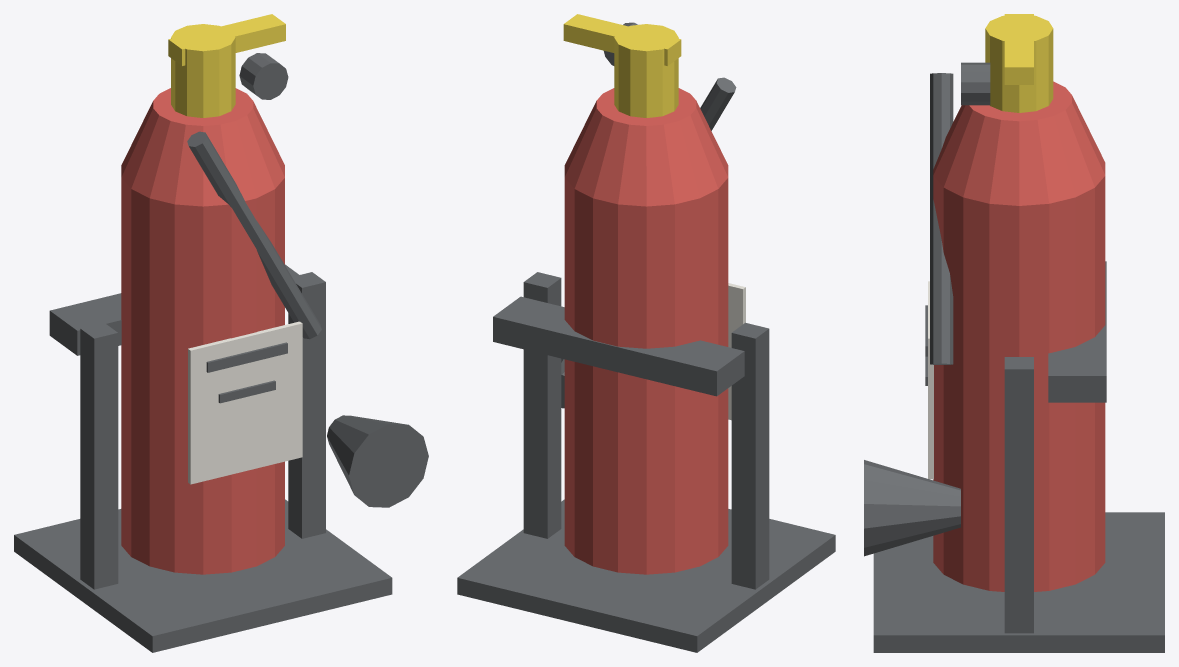
Rendered from woodworking-workshop-and-joinery-woodworking-workshop--46a18d51__34270.glb.
The picture shows the model from 3 angles, left to right: view 1: azimuth 30°, elevation 25°; view 2: azimuth 150°, elevation 25°; view 3: azimuth 270°, elevation 25°; orthographic projection. The views are drawn at different scales.
Parts seen in each view (by area): view 1: woodworking-workshop-and-joinery-fire-extinguisher; view 2: woodworking-workshop-and-joinery-fire-extinguisher; view 3: woodworking-workshop-and-joinery-fire-extinguisher.
Boxes of the visible parts, x1,y1,x2,y2 form: woodworking-workshop-and-joinery-fire-extinguisher: (14,14,428,652); woodworking-workshop-and-joinery-fire-extinguisher: (457,14,835,652); woodworking-workshop-and-joinery-fire-extinguisher: (864,14,1164,652).
Bounding box in the file's own units: 0.34 × 0.64 × 0.31.
